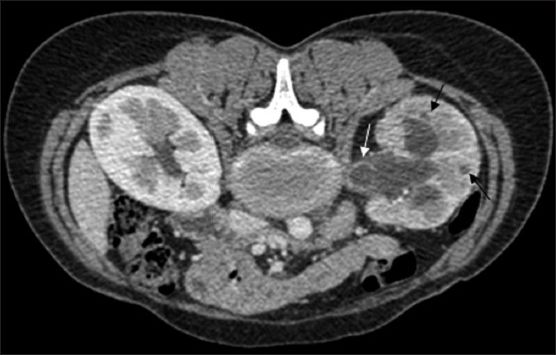anomaly: (345, 160, 394, 197)
